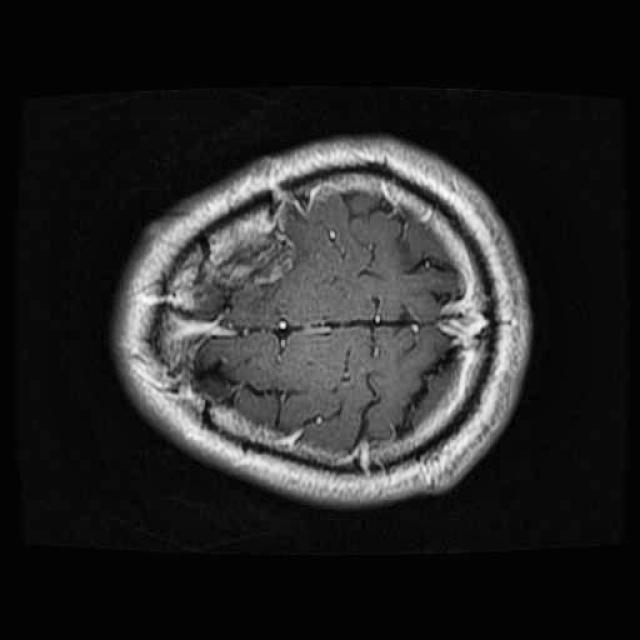Non-Tumor: (205, 219, 304, 294)
